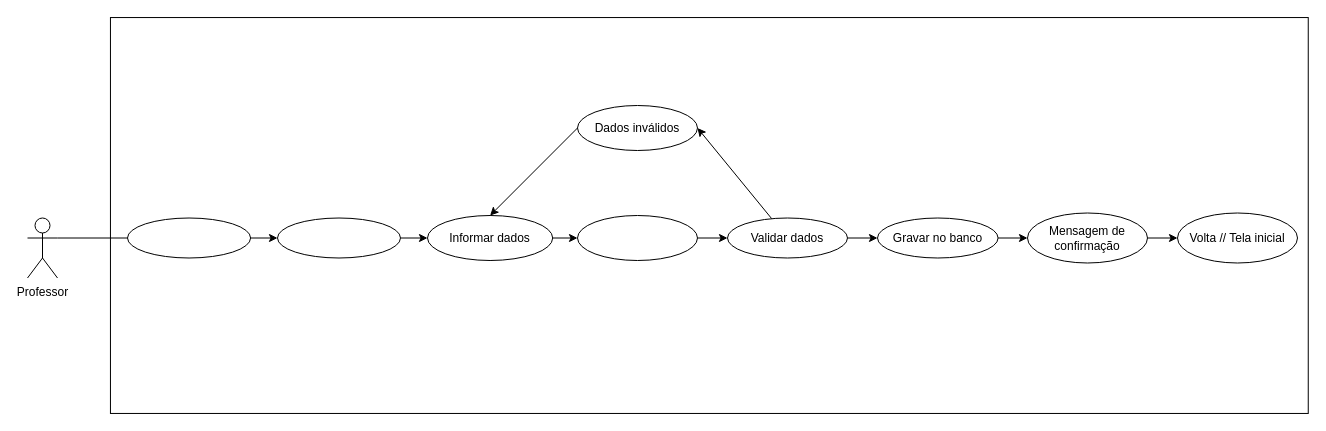
This 1326x431 diagram has some shape labels left out. The centre of each missing label's shape, as x and y in pixels:
"Cadastrar Projeto" goes at (x=338, y=237).
"Enviar Projeto" goes at (x=637, y=237).
"Login" goes at (x=188, y=237).
